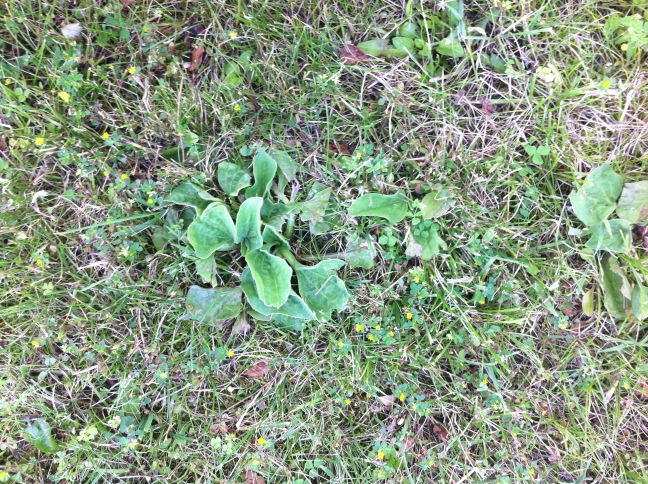weed1: (162, 141, 354, 329), (563, 151, 648, 320)
